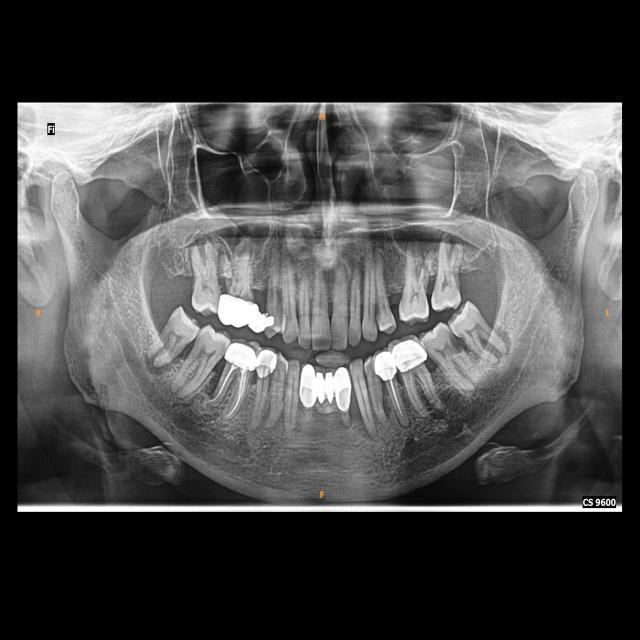dentin-curugu: (442, 334, 464, 357)
kanal-tedavisi: (208, 368, 244, 419), (388, 379, 403, 418)
kaplama: (219, 292, 256, 330), (392, 336, 426, 369), (334, 368, 352, 410), (375, 348, 397, 381), (226, 346, 255, 370), (300, 366, 316, 407), (255, 351, 276, 376)
kopru: (316, 364, 335, 417), (254, 298, 272, 335)
